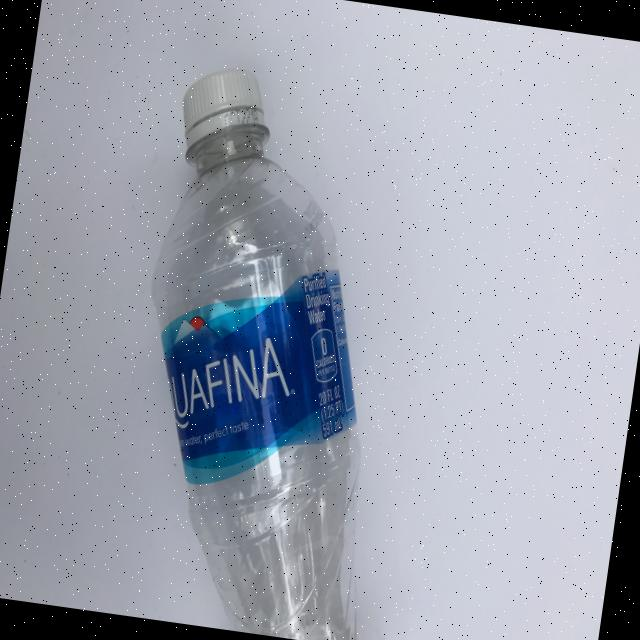plastic: (104, 59, 437, 640)
